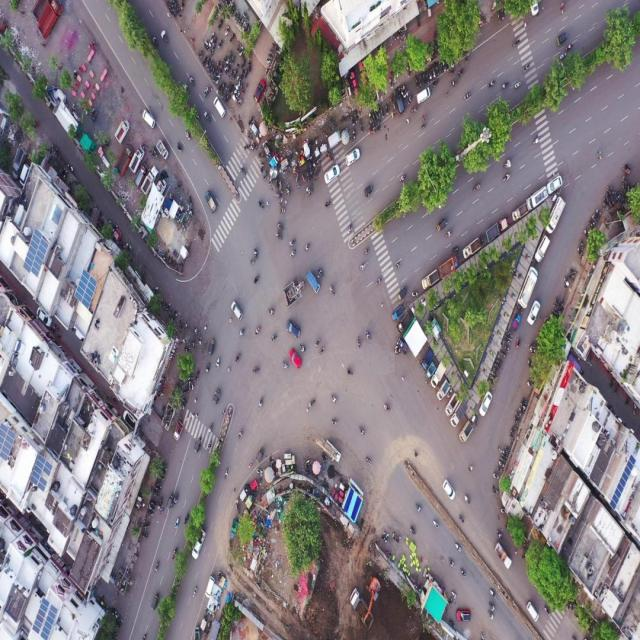3W: (555, 31, 569, 47), (396, 284, 408, 302), (206, 338, 217, 357), (210, 386, 221, 405), (396, 338, 409, 354), (149, 593, 159, 612), (255, 446, 265, 465), (435, 218, 448, 232), (391, 306, 404, 320), (425, 363, 435, 381), (363, 182, 374, 198), (193, 437, 202, 455), (167, 494, 173, 512)
Cars: (526, 297, 542, 328), (478, 388, 493, 417), (534, 236, 550, 262), (286, 318, 304, 340), (322, 165, 341, 185), (229, 298, 244, 322), (442, 477, 456, 500), (345, 146, 361, 166), (526, 598, 539, 622), (253, 78, 266, 102), (203, 574, 215, 599), (288, 348, 301, 371), (213, 97, 226, 119), (142, 108, 156, 128), (546, 176, 562, 193), (455, 608, 471, 624), (416, 88, 431, 102)
LCV: (518, 266, 538, 306), (545, 196, 565, 234), (526, 183, 548, 211), (190, 527, 207, 560), (439, 254, 458, 280), (141, 165, 157, 195), (419, 269, 439, 292), (451, 402, 468, 428), (129, 145, 144, 173), (495, 543, 511, 569), (462, 237, 479, 258), (436, 379, 451, 402), (114, 121, 131, 141), (306, 270, 320, 293), (204, 190, 217, 214), (156, 139, 170, 161), (511, 202, 527, 221), (327, 131, 343, 149), (459, 423, 473, 443), (394, 88, 404, 115), (511, 313, 521, 331), (174, 420, 183, 439)
M2W: (256, 396, 265, 412), (530, 135, 541, 148), (470, 183, 481, 196), (302, 242, 312, 255), (160, 29, 170, 42), (176, 138, 184, 154), (502, 170, 512, 182), (222, 466, 230, 481), (184, 127, 192, 142), (358, 425, 367, 438), (206, 438, 214, 452), (203, 82, 210, 98), (542, 606, 552, 617), (488, 588, 497, 600), (383, 402, 392, 414), (444, 228, 453, 240), (252, 272, 261, 284), (454, 541, 462, 554), (458, 513, 466, 526), (365, 329, 373, 342), (206, 421, 214, 434), (448, 617, 455, 631), (173, 493, 180, 507), (173, 516, 180, 530), (152, 36, 159, 50), (188, 74, 195, 88), (451, 588, 459, 600), (432, 518, 440, 530), (491, 470, 499, 482), (347, 222, 353, 238), (254, 325, 262, 337), (496, 529, 503, 542), (257, 197, 264, 210), (183, 512, 190, 525), (345, 367, 354, 377), (392, 260, 401, 270), (323, 199, 332, 209), (450, 244, 460, 253), (171, 546, 177, 561), (72, 67, 78, 82), (362, 246, 370, 257), (216, 19, 224, 30), (448, 557, 455, 569), (463, 494, 470, 506), (410, 523, 416, 537), (356, 335, 362, 349), (503, 158, 510, 170), (329, 286, 336, 298), (240, 166, 247, 178), (252, 248, 259, 260), (204, 364, 211, 376), (153, 559, 159, 573), (192, 586, 198, 600), (183, 80, 189, 94), (204, 110, 210, 124), (223, 24, 230, 36), (358, 263, 367, 272), (512, 81, 521, 90), (488, 601, 496, 611), (459, 567, 467, 577), (463, 90, 471, 100), (270, 332, 278, 342), (402, 84, 407, 100), (622, 165, 630, 175), (214, 356, 220, 369), (194, 369, 200, 382), (388, 76, 394, 89), (595, 207, 601, 220), (416, 503, 423, 514), (365, 456, 372, 467), (194, 109, 201, 120), (449, 79, 457, 88), (487, 79, 495, 88), (512, 38, 520, 47), (522, 63, 530, 72), (565, 42, 573, 51), (332, 415, 338, 427), (298, 344, 306, 353), (319, 345, 325, 357), (318, 266, 324, 278), (300, 172, 306, 184), (289, 248, 297, 257), (282, 360, 288, 372), (237, 428, 243, 440), (92, 111, 98, 123), (227, 48, 233, 60), (488, 610, 495, 620), (502, 80, 509, 90), (276, 221, 283, 231), (252, 366, 259, 376), (197, 50, 204, 60), (240, 58, 247, 68), (479, 234, 485, 245), (218, 64, 224, 75), (263, 168, 268, 181), (153, 146, 158, 159), (496, 11, 501, 24), (142, 523, 150, 531), (154, 480, 162, 488), (559, 51, 566, 60), (308, 399, 315, 408), (289, 238, 296, 247), (267, 307, 274, 316), (505, 330, 514, 337), (480, 628, 485, 640), (376, 276, 382, 286), (457, 68, 463, 78), (432, 78, 438, 88), (331, 393, 336, 405), (314, 340, 320, 350), (276, 232, 282, 242), (234, 353, 240, 363), (238, 327, 244, 337), (217, 39, 223, 49), (247, 62, 252, 74), (407, 95, 413, 105), (399, 174, 406, 182), (278, 208, 286, 215), (418, 74, 422, 88), (499, 350, 506, 358), (496, 358, 503, 366), (498, 460, 505, 468), (569, 269, 577, 276), (381, 531, 386, 542), (166, 301, 171, 312), (202, 55, 207, 66), (327, 150, 332, 161), (589, 219, 594, 230), (246, 131, 252, 140), (215, 75, 221, 84), (514, 416, 520, 425), (306, 170, 310, 183), (295, 172, 299, 185), (188, 194, 192, 207), (414, 76, 418, 89), (259, 162, 264, 172), (230, 33, 235, 43), (210, 32, 215, 42), (218, 81, 223, 91), (239, 46, 244, 56), (504, 344, 509, 354), (577, 248, 582, 258), (190, 340, 197, 347), (494, 362, 501, 369), (492, 367, 499, 374), (568, 273, 575, 280), (412, 290, 418, 298), (244, 143, 250, 151), (237, 75, 241, 87), (240, 82, 244, 94), (350, 115, 354, 127), (354, 111, 358, 123), (380, 107, 384, 119), (422, 73, 426, 85), (432, 66, 436, 78), (436, 64, 440, 76), (464, 52, 468, 64), (89, 109, 94, 118), (179, 321, 183, 332), (159, 496, 163, 507), (210, 45, 214, 56), (216, 60, 220, 71), (352, 128, 356, 139), (509, 431, 513, 442), (148, 505, 154, 512), (205, 39, 212, 45), (499, 457, 506, 463), (509, 426, 516, 432), (515, 412, 521, 419), (527, 381, 533, 388), (520, 402, 526, 409), (552, 310, 559, 316), (148, 150, 153, 158), (213, 36, 218, 44), (222, 55, 227, 63), (231, 55, 235, 65), (229, 69, 233, 79), (233, 68, 237, 78), (222, 82, 226, 92), (240, 70, 244, 80), (372, 113, 376, 123), (359, 122, 362, 135), (203, 44, 209, 50), (258, 152, 264, 158), (386, 104, 389, 116), (377, 104, 380, 116), (390, 94, 393, 106), (426, 73, 429, 85), (497, 467, 503, 473), (153, 490, 160, 495), (150, 501, 157, 506), (141, 533, 148, 538), (377, 120, 380, 131), (443, 61, 446, 72), (441, 62, 444, 73), (244, 68, 247, 78), (429, 70, 431, 83)
Truck: (37, 0, 61, 37), (116, 142, 132, 176)
